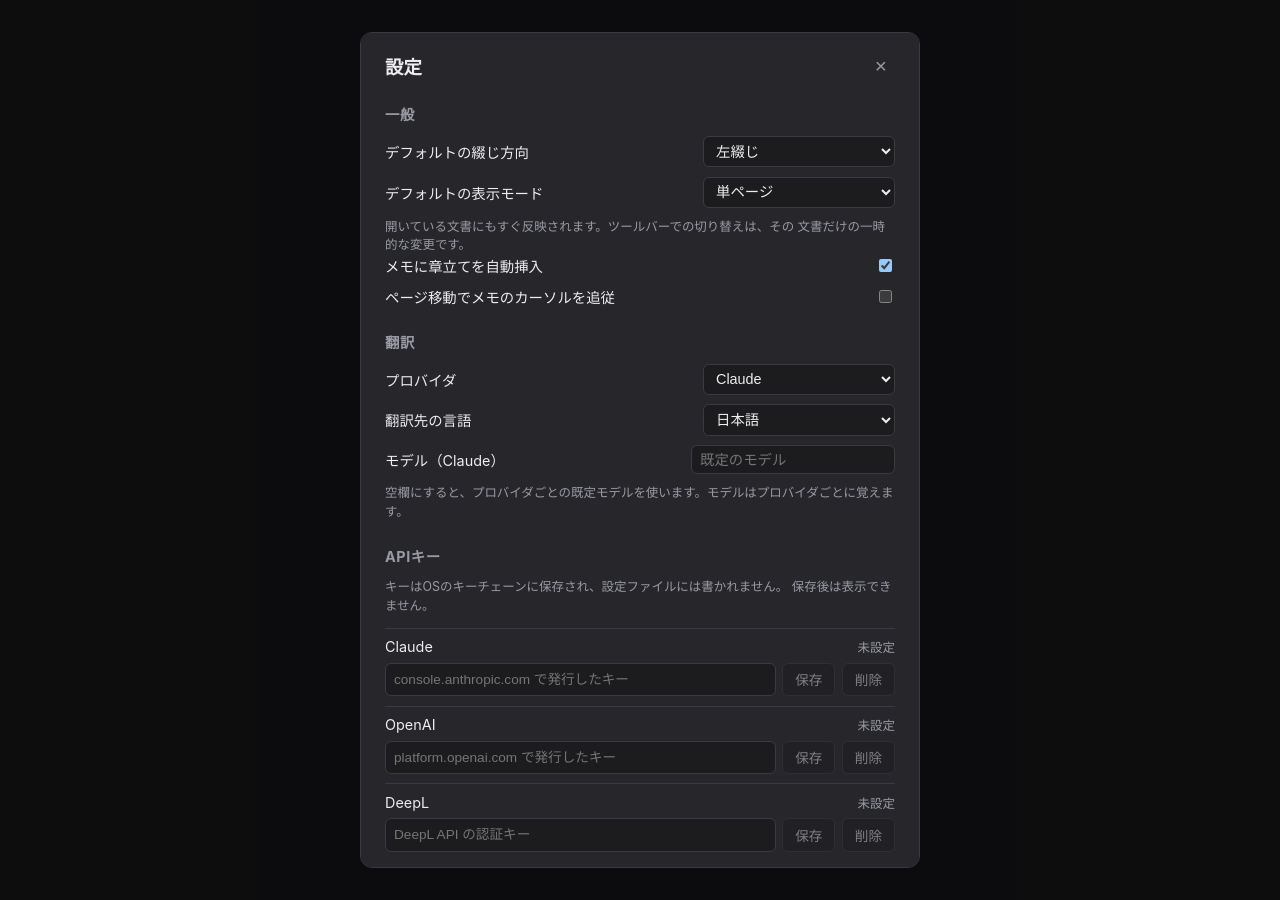
it: SettingsDialog › stores a typed key and clears the field afterwards
In the password field labelled "Claude": (580, 679) [385,663,776,696], type "sk-ant-123"
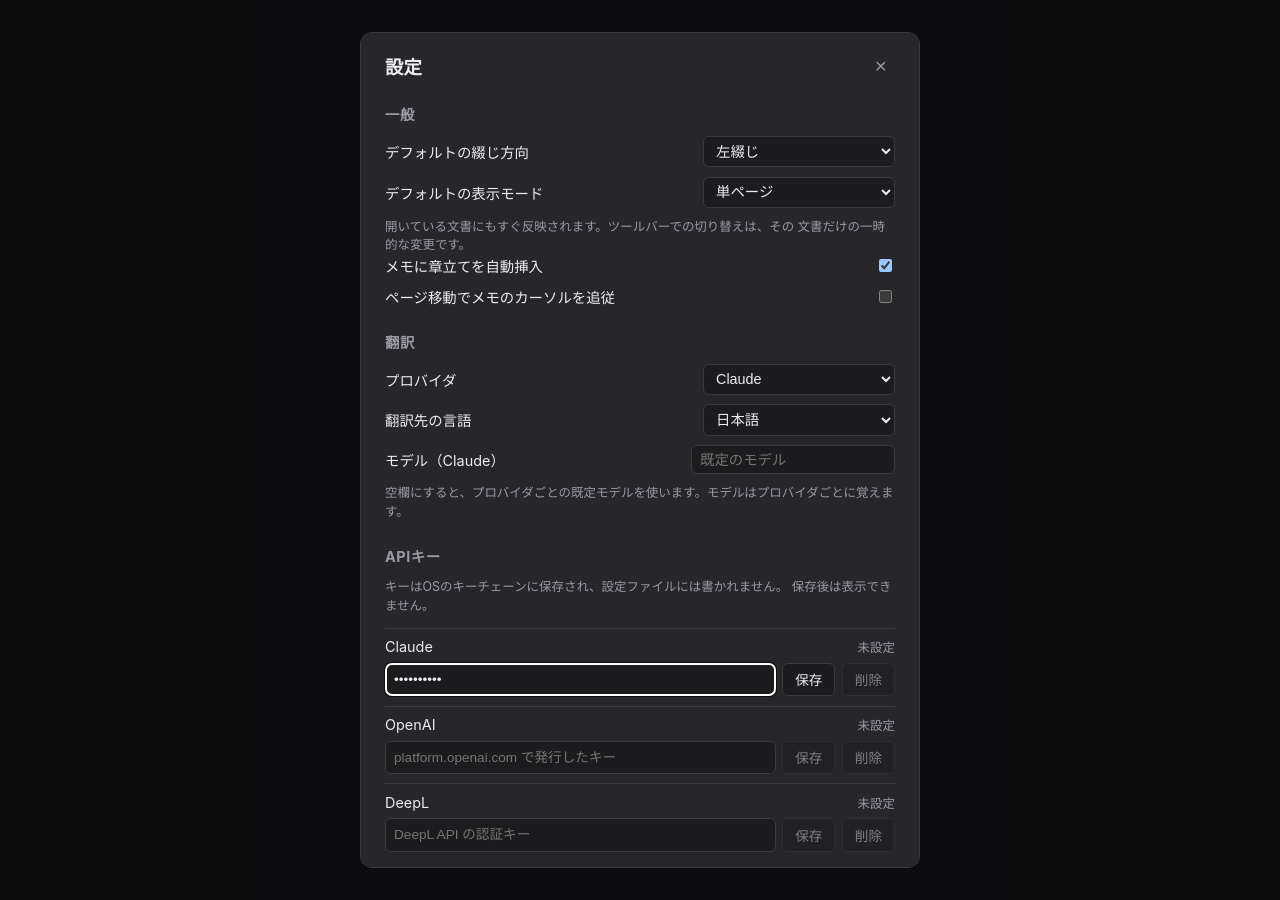
Click the 1st button "保存": click(809, 679) [782,663,835,696]
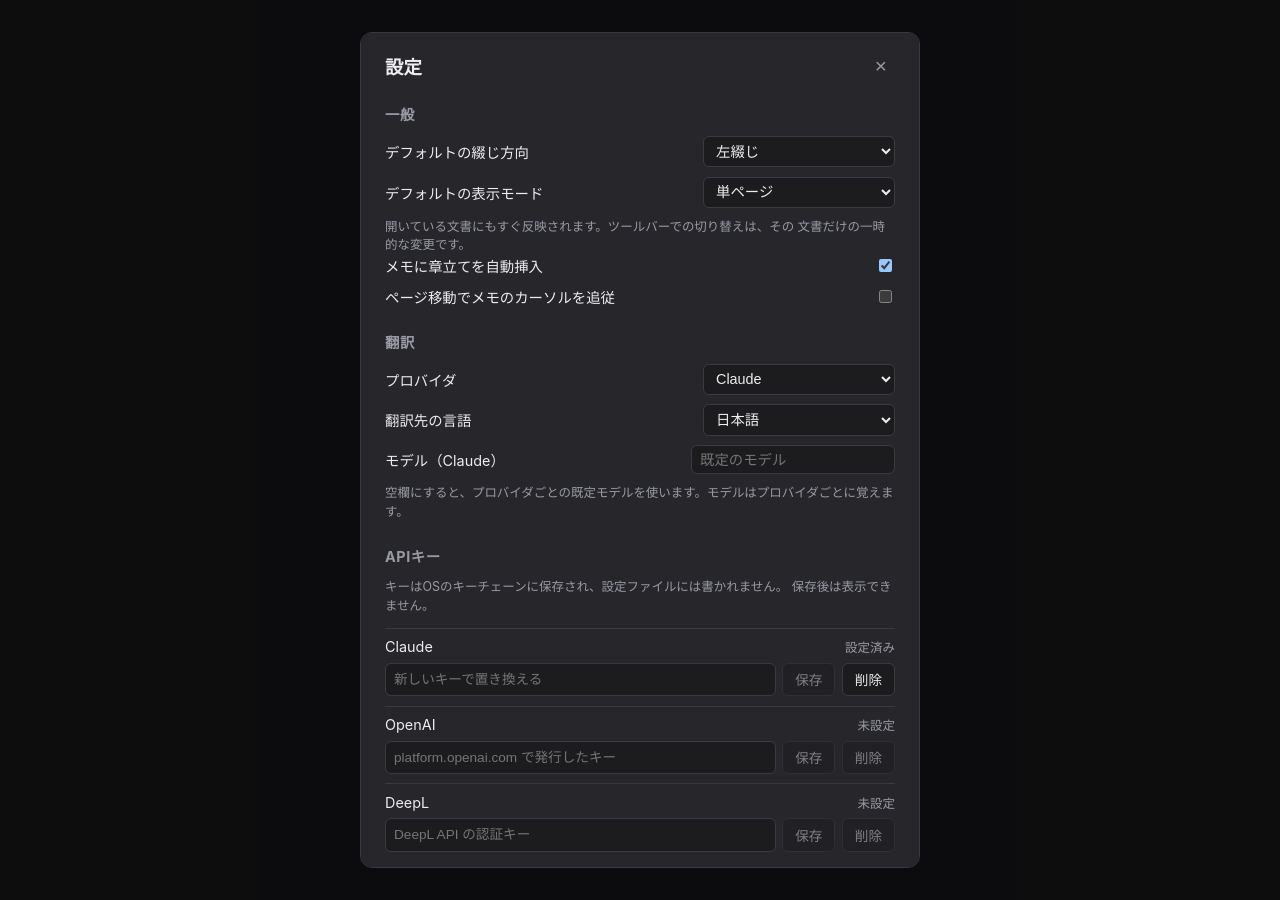
Expected: the password field labelled "Claude" is empty, [385,663,776,696]
Expected: the text "設定済み" is shown, [845,638,895,656]
